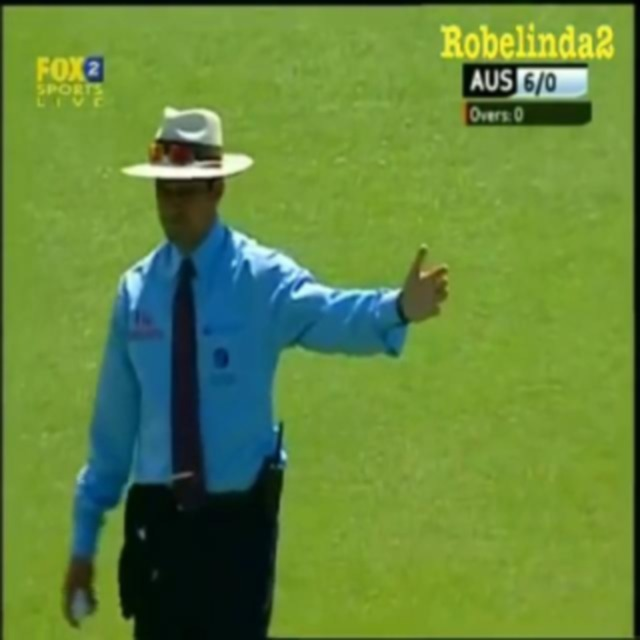No_Ball: (56, 100, 450, 637)
